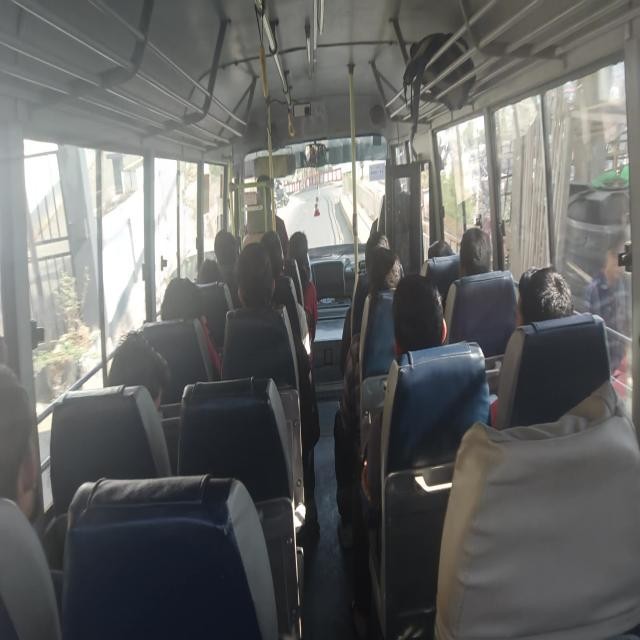person: (434, 379, 639, 638), (352, 273, 492, 636), (222, 240, 320, 538), (334, 231, 404, 548), (360, 272, 447, 510), (0, 363, 62, 638), (488, 264, 574, 428), (340, 230, 404, 376), (260, 230, 313, 370), (585, 226, 632, 376), (0, 363, 41, 522), (443, 226, 493, 342), (107, 329, 171, 415), (392, 273, 447, 356), (516, 265, 574, 328), (288, 230, 318, 342), (213, 229, 241, 308), (459, 227, 492, 277)
